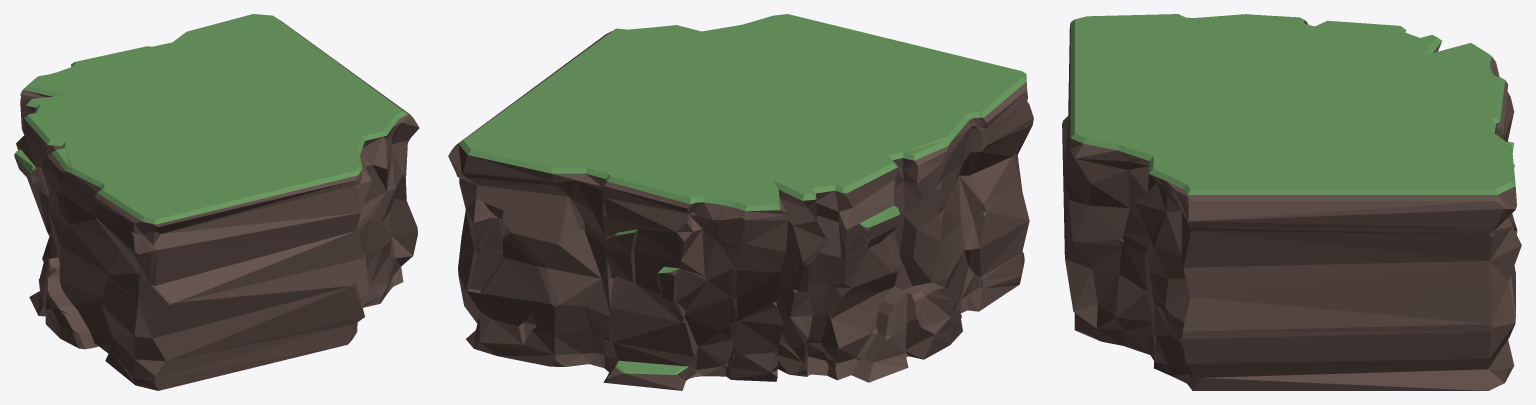
Rendered from Cliff L 6.fbx.
3 renders of one model, left to right at view 1: azimuth 30°, elevation 25°; view 2: azimuth 150°, elevation 25°; view 3: azimuth 270°, elevation 25°, orthographic. The views are drawn at different scales.
Visible parts, largest first — view 1: Cliff 17; view 2: Cliff 17; view 3: Cliff 17.
Part boxes in pixels (x1,y1,x2,y2): Cliff 17: (14, 14, 419, 390); Cliff 17: (448, 14, 1033, 390); Cliff 17: (1062, 14, 1521, 390).
Bounding box in the file's own units: 210 × 102 × 211.
